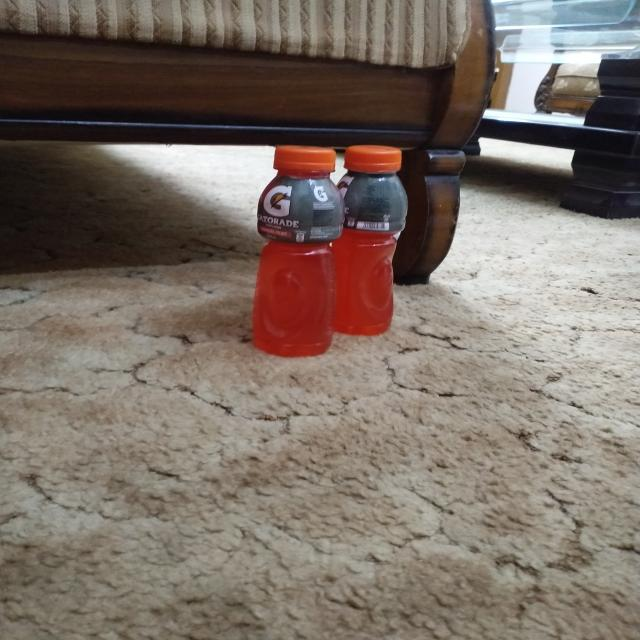Plastic: (248, 141, 342, 358), (338, 142, 414, 338)
